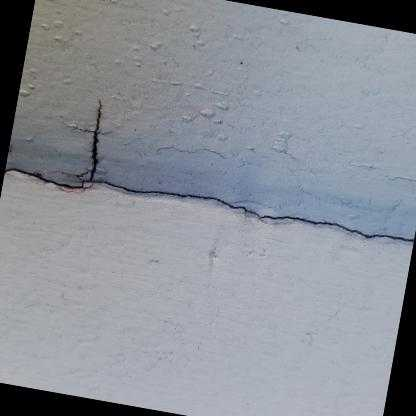crack: (3, 97, 414, 243)
